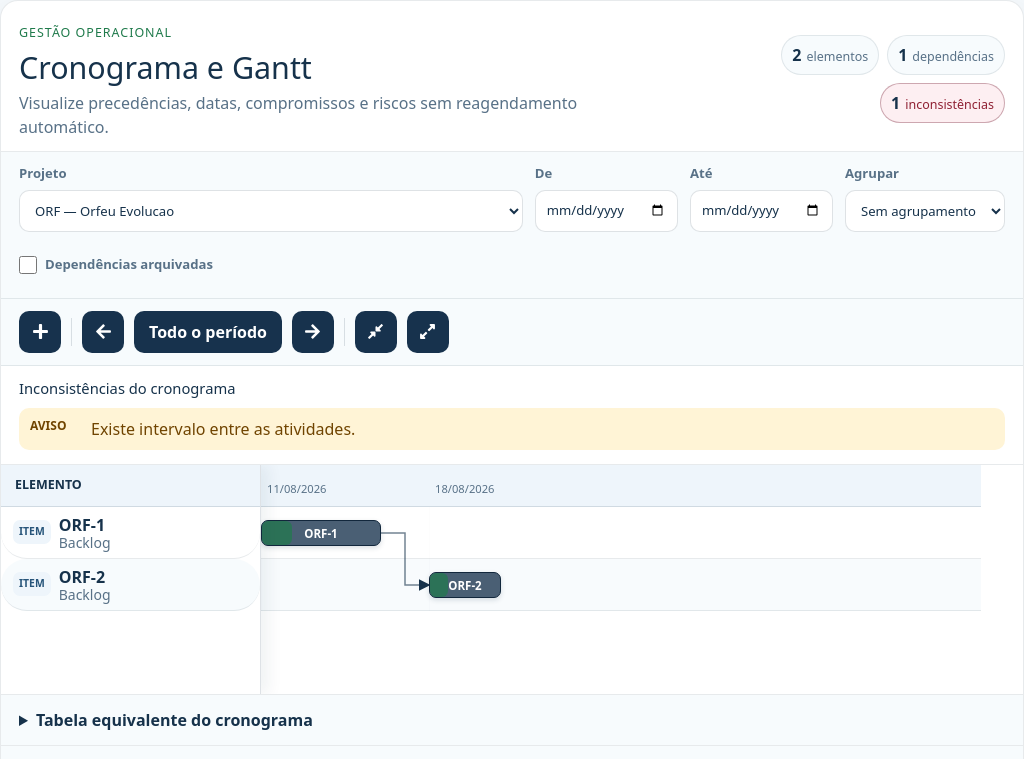
it: Cronograma e Gantt › protege o preenchimento parcial da dependencia ao fechar pelo teclado
Expected: the text "Existe intervalo entre as atividades." is shown, [91, 417, 355, 441]
Click the button named "Incluir dependência" at (40, 332), box [19, 311, 61, 353]
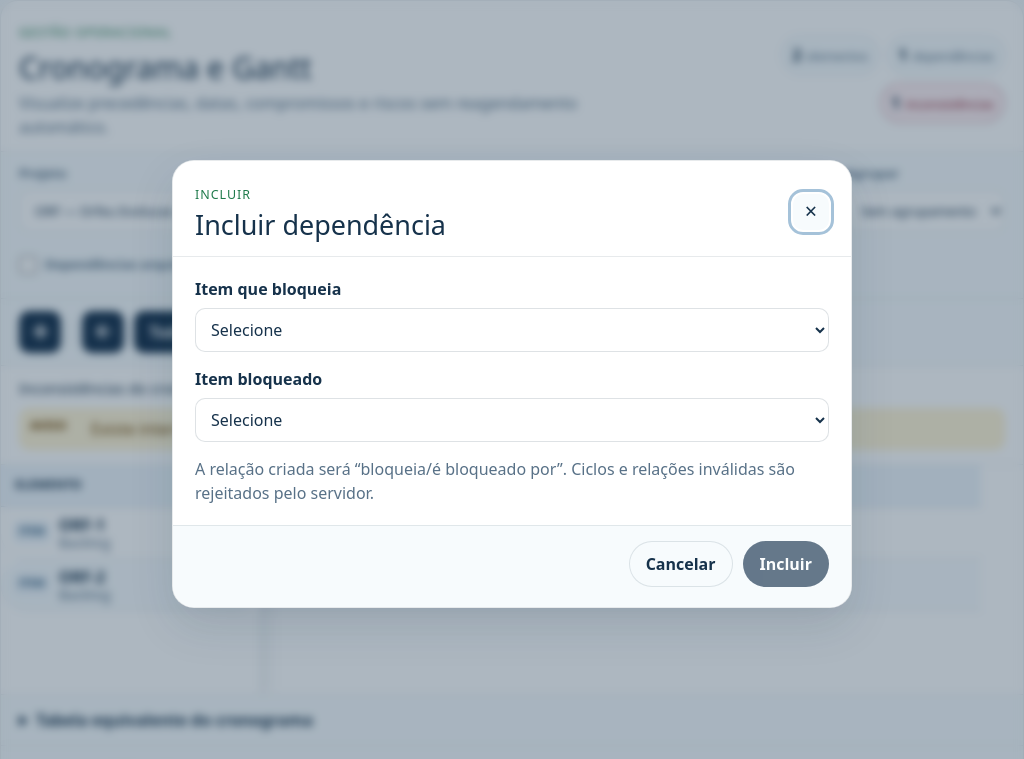
Select "ORF-1 — Implementar autenticacao" in the dropdown labelled "Item que bloqueia" at (512, 330), box [195, 308, 829, 352]
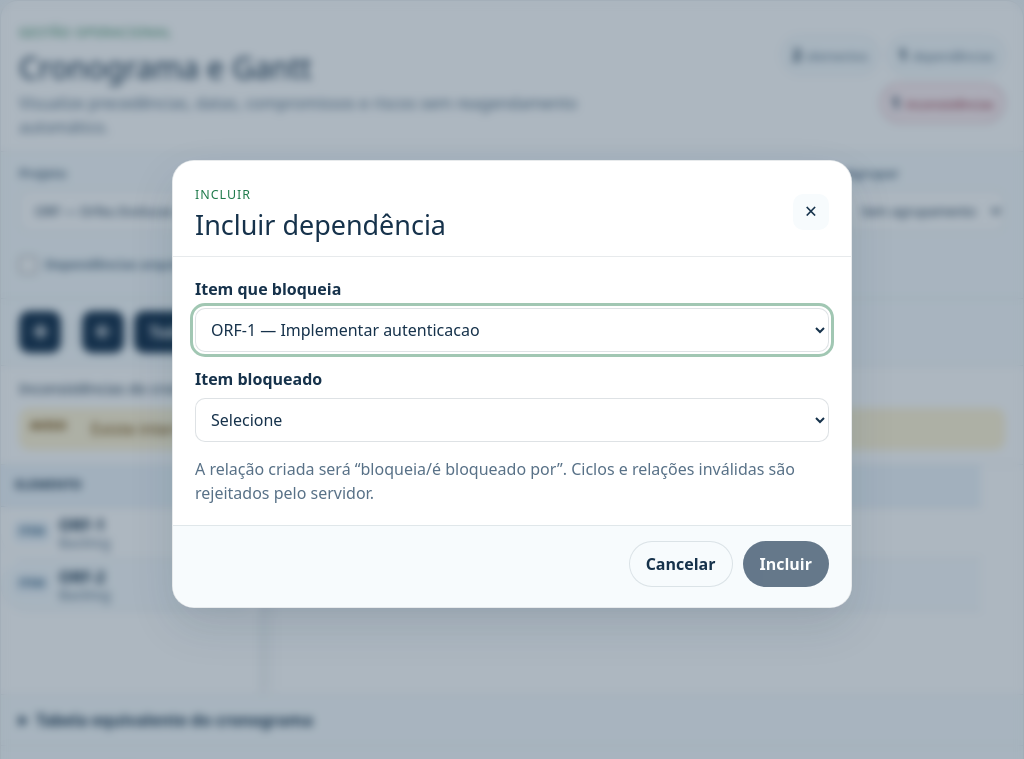
Press Escape
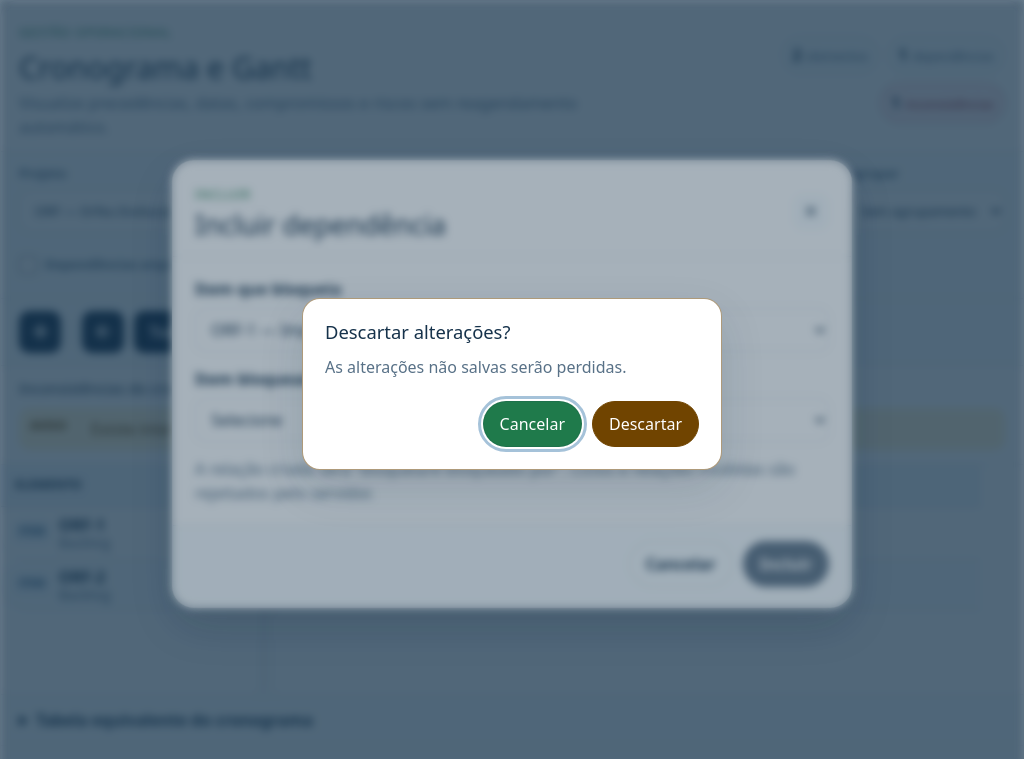
Now the dialog "Descartar altera" is shown, box [302, 298, 722, 470]
Click the button "Descartar" at (646, 424), box [592, 401, 699, 447]
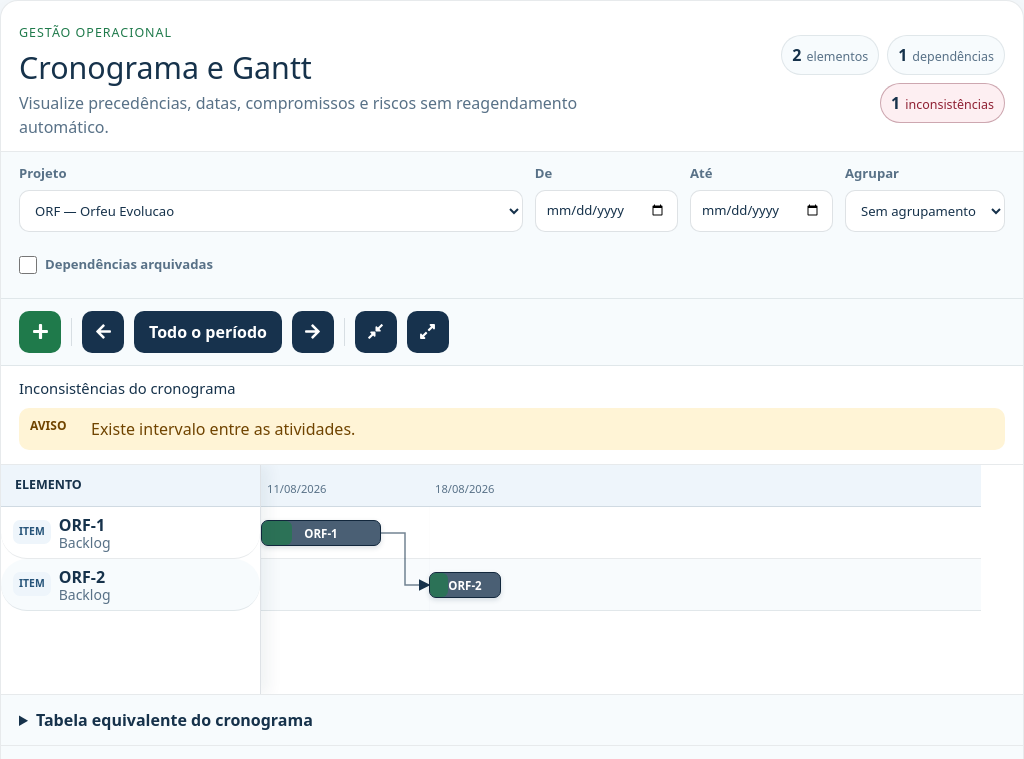
Now the heading "Incluir depend.ncia" is gone
